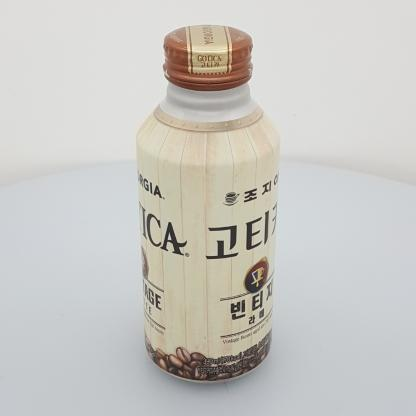----------------: (135, 24, 282, 383)
